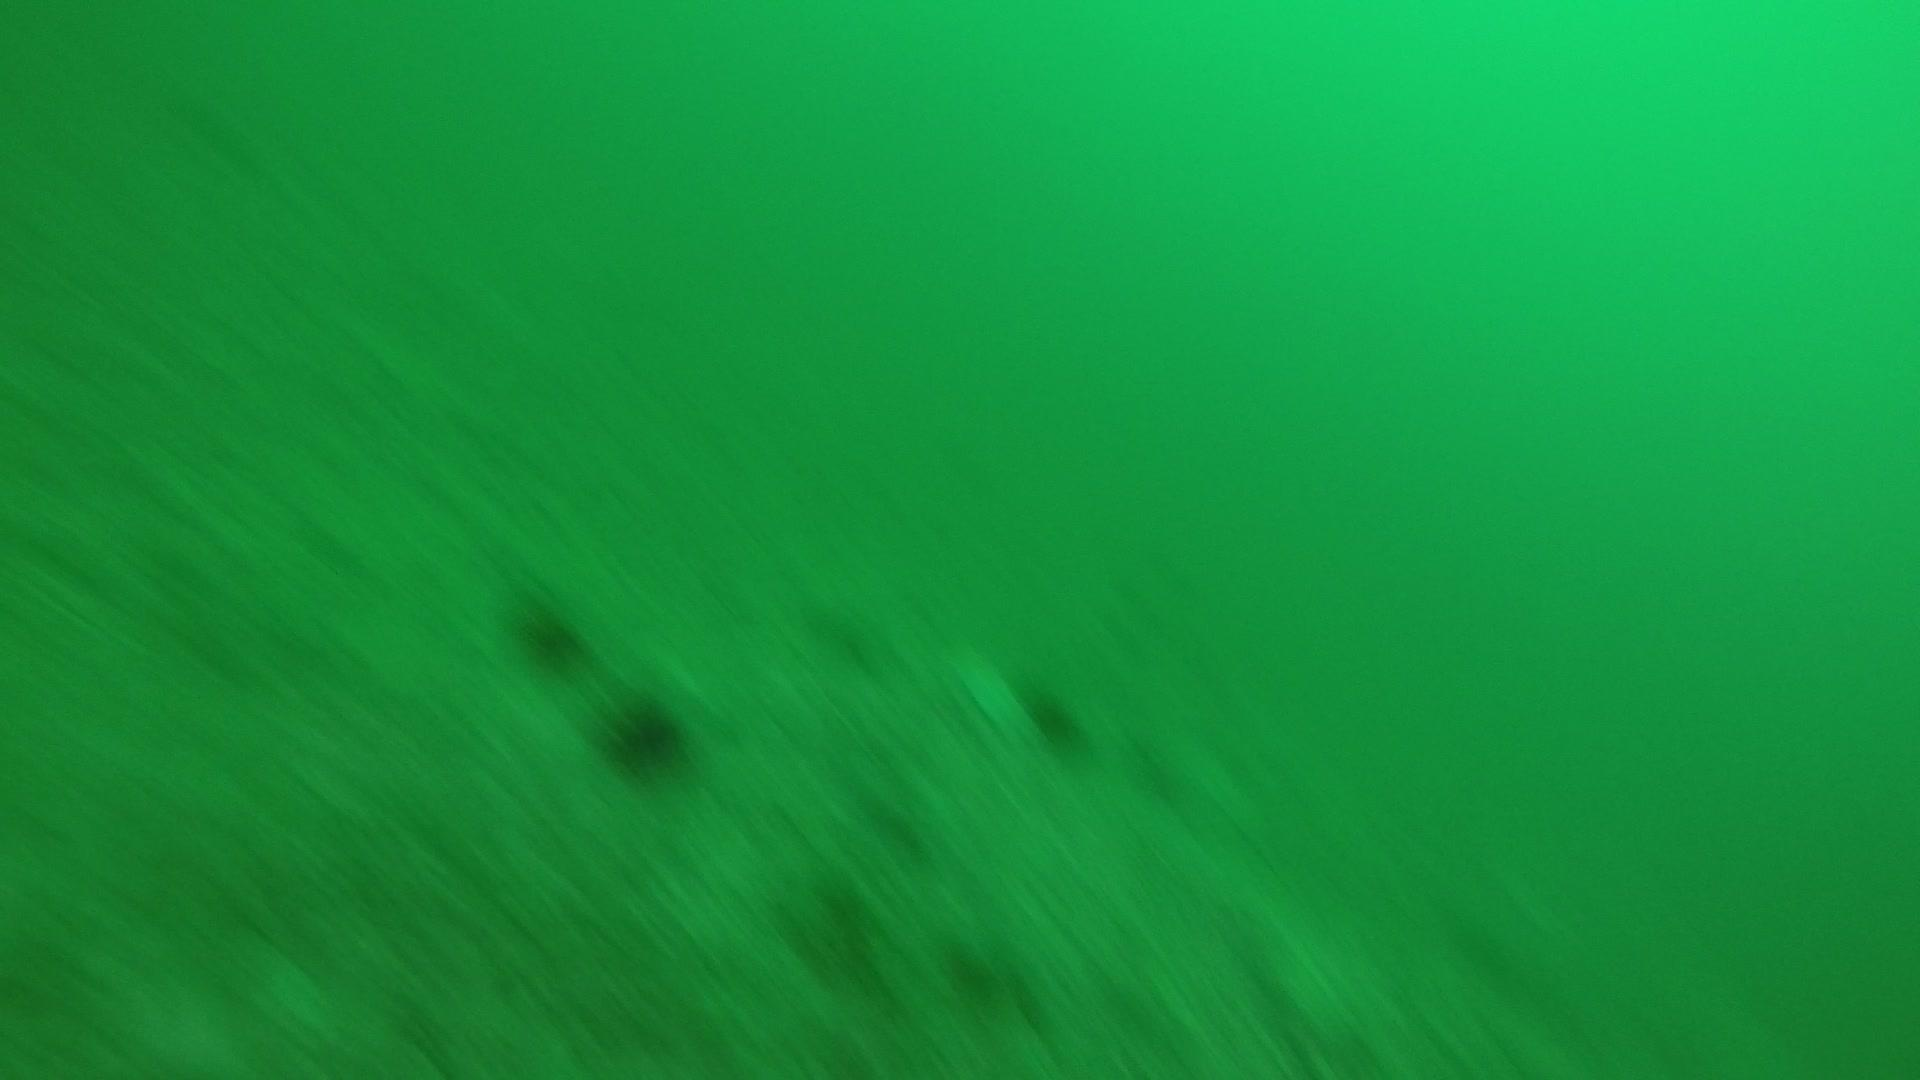echinus: (599, 691, 692, 779), (509, 595, 589, 673), (1019, 683, 1088, 752)
